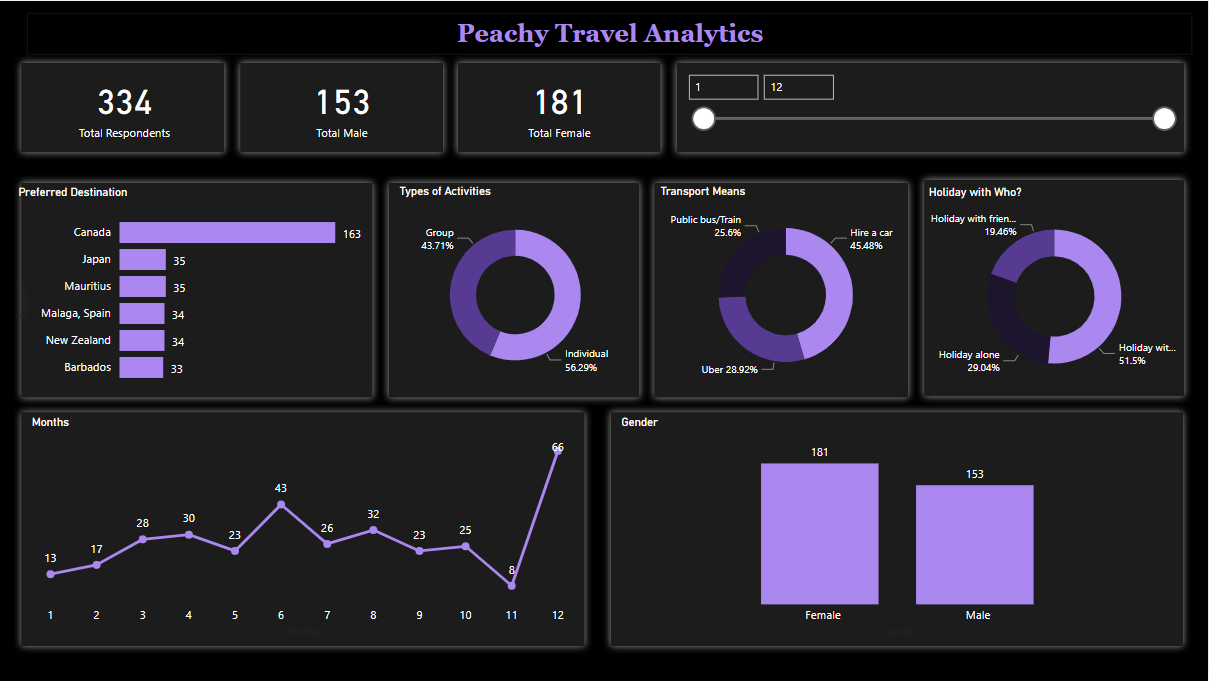

What the dashboard file says about the page in this screenshot:
{"tool":"powerbi","page":{"name":"Page 1","canvas":[1280,720],"ordinal":0},"visuals":[{"type":"shape","box":[14.8,57.4,231.1,111.5],"z":0},{"type":"shape","box":[14.8,183.6,388.5,244.3],"z":1000},{"type":"shape","box":[403.3,183.6,282,244.3],"z":2000},{"type":"shape","box":[685.2,183.6,285.2,244.3],"z":3000},{"type":"shape","box":[970.5,182,291.8,245.9],"z":4000},{"type":"shape","box":[639.3,427.9,623,263.9],"z":5000},{"type":"shape","box":[14.8,427.9,613.1,263.9],"z":6000},{"type":"card","fields":{"Values":["Travel.Total Respondents"]},"box":[27.9,68.9,206.6,86.9],"z":7000},{"type":"shape","box":[245.9,57.4,231.1,111.5],"z":8000},{"type":"shape","box":[477,57.4,231.1,111.5],"z":9000},{"type":"shape","box":[708.2,57.4,554.1,111.5],"z":10000},{"type":"card","fields":{"Values":["Travel.Total Male"]},"box":[259,68.9,206.6,86.9],"z":11000},{"type":"card","fields":{"Values":["Travel.Total Female"]},"box":[490.2,68.9,206.6,86.9],"z":12000},{"type":"clusteredBarChart","title":"Preferred Destination","fields":{"Category":["Travel.Country"],"Y":["CountNonNull(Travel.Country)"]},"box":[14.8,195.1,375.4,221.3],"z":13000},{"type":"donutChart","title":"Types of Activities","fields":{"Category":["Travel.Type of Activities"],"Y":["CountNonNull(Travel.Type of Activities)"]},"box":[418,193.4,255.7,221.3],"z":14000},{"type":"donutChart","title":"Transport Means","fields":{"Category":["Travel.Transport Means"],"Y":["CountNonNull(Travel.Transport Means)"]},"box":[695.1,193.4,275.4,221.3],"z":15000},{"type":"donutChart","title":"Holiday with Who?","fields":{"Category":["Travel.Holiday with who?"],"Y":["CountNonNull(Travel.Holiday with who?)"]},"box":[978.7,195.1,275.4,221.3],"z":16000},{"type":"lineChart","title":"Months","fields":{"Y":["CountNonNull(Travel.Months)"],"Category":["Travel.Months"]},"box":[27.9,439.3,586.9,239.3],"z":17000},{"type":"clusteredColumnChart","title":"Gender ","fields":{"Category":["Travel.Gender"],"Y":["CountNonNull(Travel.Gender)"]},"box":[652.5,439.3,601.6,239.3],"z":18000},{"type":"slicer","title":"Months","fields":{"Values":["Travel.Months"]},"box":[716.4,68.9,537.7,86.9],"z":19000},{"type":"textbox","box":[27.9,13.1,1234.4,44.3],"z":20000}]}

Visuals, with their boxes in screenshot pixels (x1, y1, x2, y2), scaled from the page's 1280x720 canvas onto the 1209x681 screenshot:
shape: rect(14, 54, 232, 160)
shape: rect(14, 174, 381, 405)
shape: rect(381, 174, 647, 405)
shape: rect(647, 174, 917, 405)
shape: rect(917, 172, 1192, 405)
shape: rect(604, 405, 1192, 654)
shape: rect(14, 405, 593, 654)
card - Travel.Total Respondents: rect(26, 65, 221, 147)
shape: rect(232, 54, 451, 160)
shape: rect(451, 54, 669, 160)
shape: rect(669, 54, 1192, 160)
card - Travel.Total Male: rect(245, 65, 440, 147)
card - Travel.Total Female: rect(463, 65, 658, 147)
"Preferred Destination" clusteredBarChart: rect(14, 185, 369, 394)
"Types of Activities" donutChart: rect(395, 183, 636, 392)
"Transport Means" donutChart: rect(657, 183, 917, 392)
"Holiday with Who?" donutChart: rect(924, 185, 1185, 394)
"Months" lineChart: rect(26, 416, 581, 642)
"Gender " clusteredColumnChart: rect(616, 416, 1185, 642)
"Months" slicer: rect(677, 65, 1185, 147)
textbox: rect(26, 12, 1192, 54)
